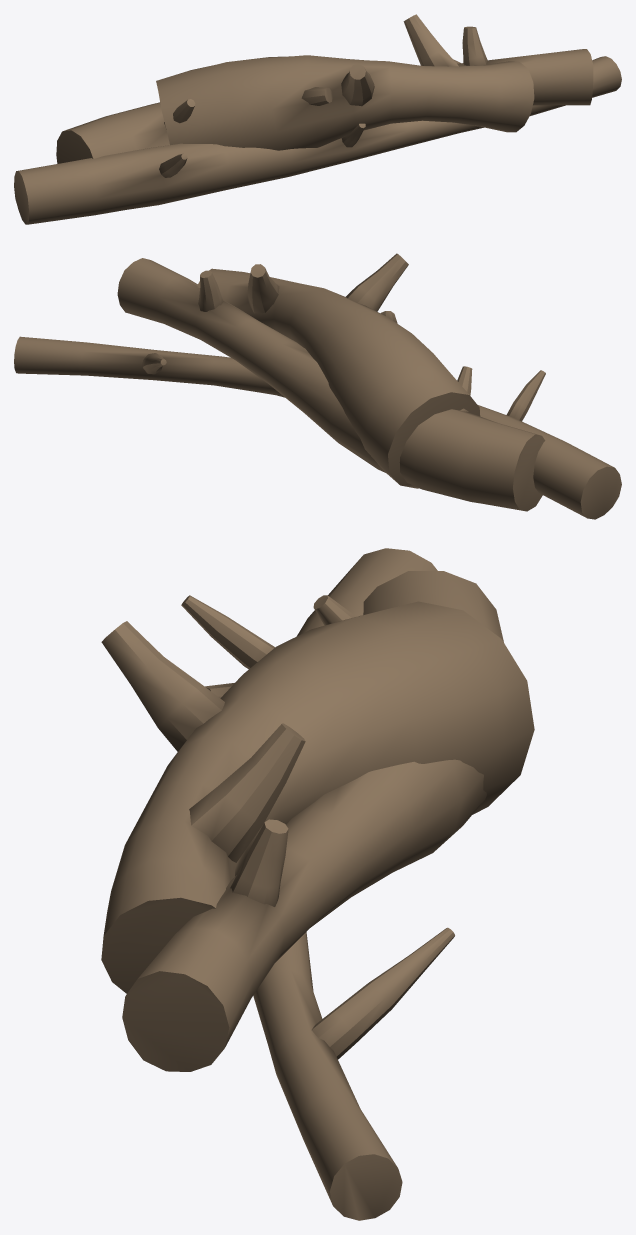
Rendered from stack_driftwood.glb.
The picture shows the model from 3 angles, top to bottom: view 1: azimuth 30°, elevation 25°; view 2: azimuth 150°, elevation 25°; view 3: azimuth 270°, elevation 25°; orthographic projection. The views are drawn at different scales.
Parts seen in each view (by area): view 1: driftwood_b, driftwood_c, driftwood_a; view 2: driftwood_a, driftwood_b, driftwood_c; view 3: driftwood_b, driftwood_a, driftwood_c.
Boxes of the visible parts, bbox=[...] form: driftwood_b: bbox=[156, 14, 534, 150]; driftwood_c: bbox=[14, 56, 621, 224]; driftwood_a: bbox=[56, 26, 593, 163]; driftwood_a: bbox=[117, 258, 545, 511]; driftwood_b: bbox=[197, 253, 480, 488]; driftwood_c: bbox=[14, 336, 621, 519]; driftwood_b: bbox=[101, 601, 534, 993]; driftwood_a: bbox=[122, 571, 503, 1071]; driftwood_c: bbox=[181, 548, 454, 1220].
Bounding box in the file's own units: 3.16 × 0.7525 × 1.
